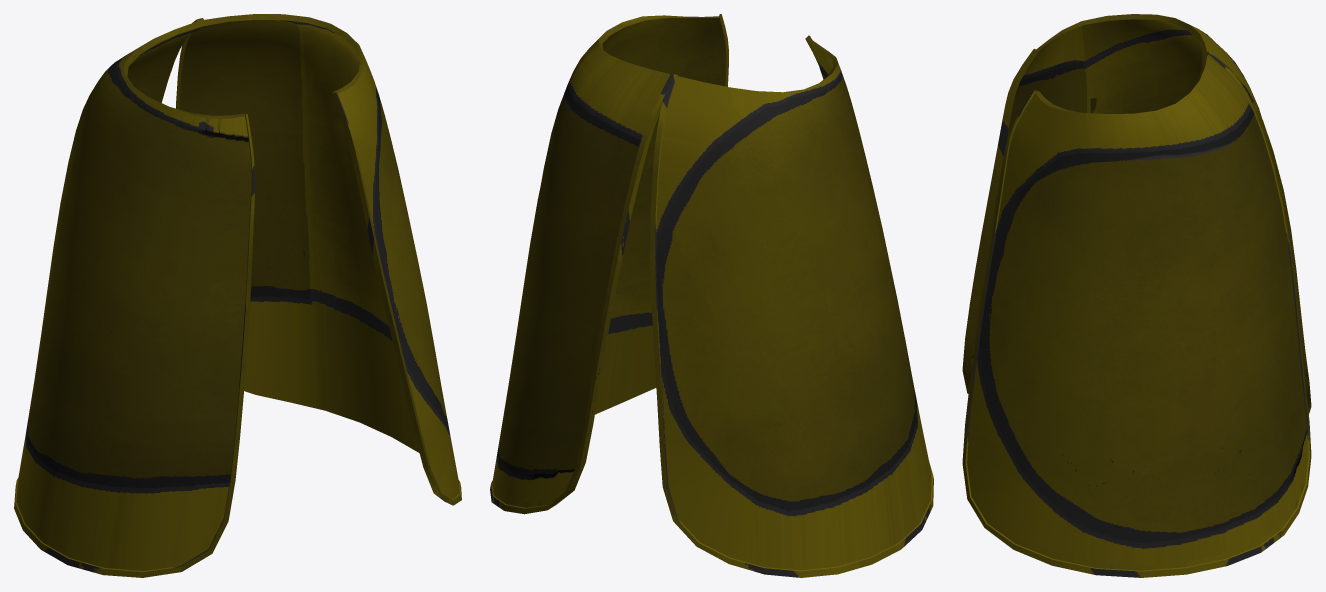
The model's file is Kama.fbx.
The picture shows the model from 3 angles, left to right: view 1: azimuth 30°, elevation 25°; view 2: azimuth 150°, elevation 25°; view 3: azimuth 270°, elevation 25°; orthographic projection. The views are drawn at different scales.
Visible parts, largest first — view 1: ARC Kama; view 2: ARC Kama; view 3: ARC Kama.
Part boxes in pixels (x1,y1,x2,y2): ARC Kama: (14,14,461,577); ARC Kama: (490,14,933,577); ARC Kama: (962,14,1311,577).
Bounding box in the file's own units: 1916 × 2162 × 1571.
